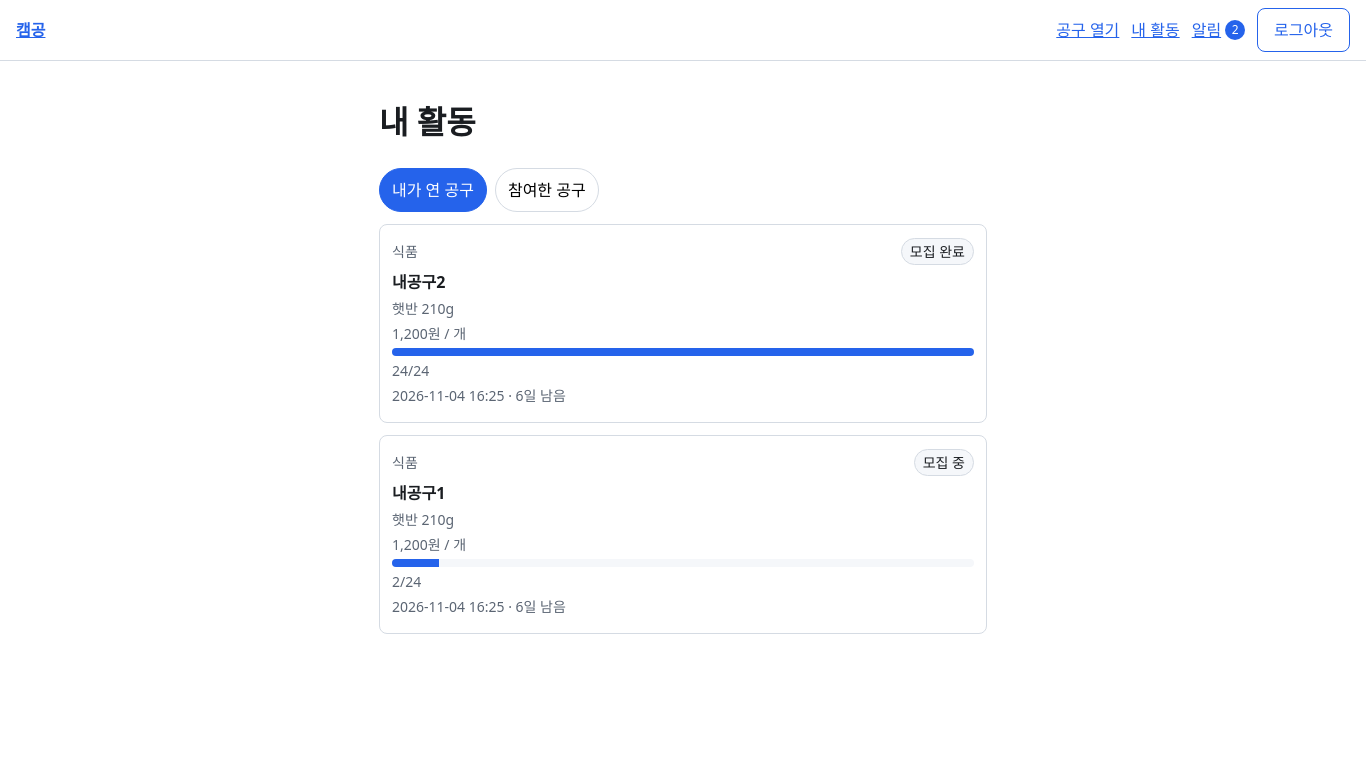
Scenario: 내 활동 (US5) › 항목을 누르면 상세로 간다
This screenshot has width=1366, height=768.
Click the link "내공구2" at [937, 251], box x1=379 y1=224 x2=987 y2=423
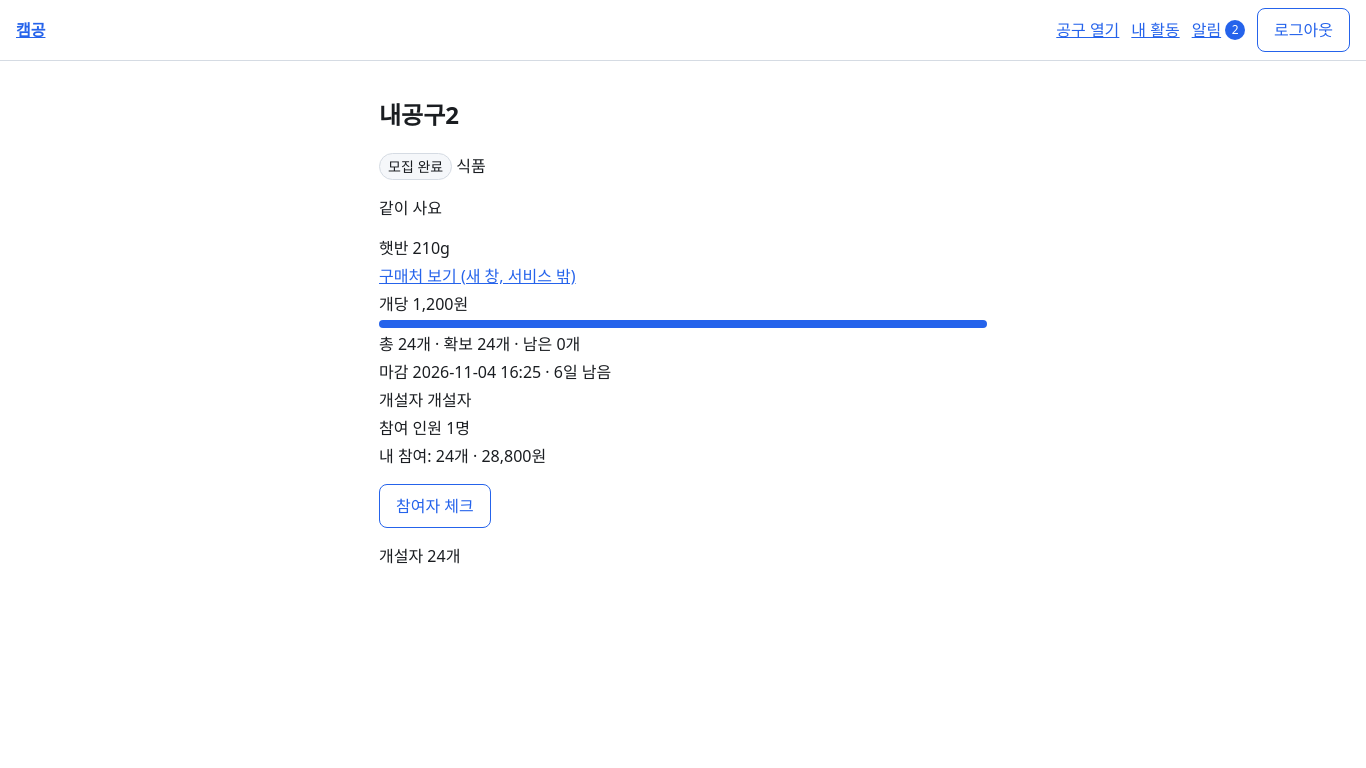
Expected: the heading "내공구2" is shown, x1=379 y1=98 x2=459 y2=131
